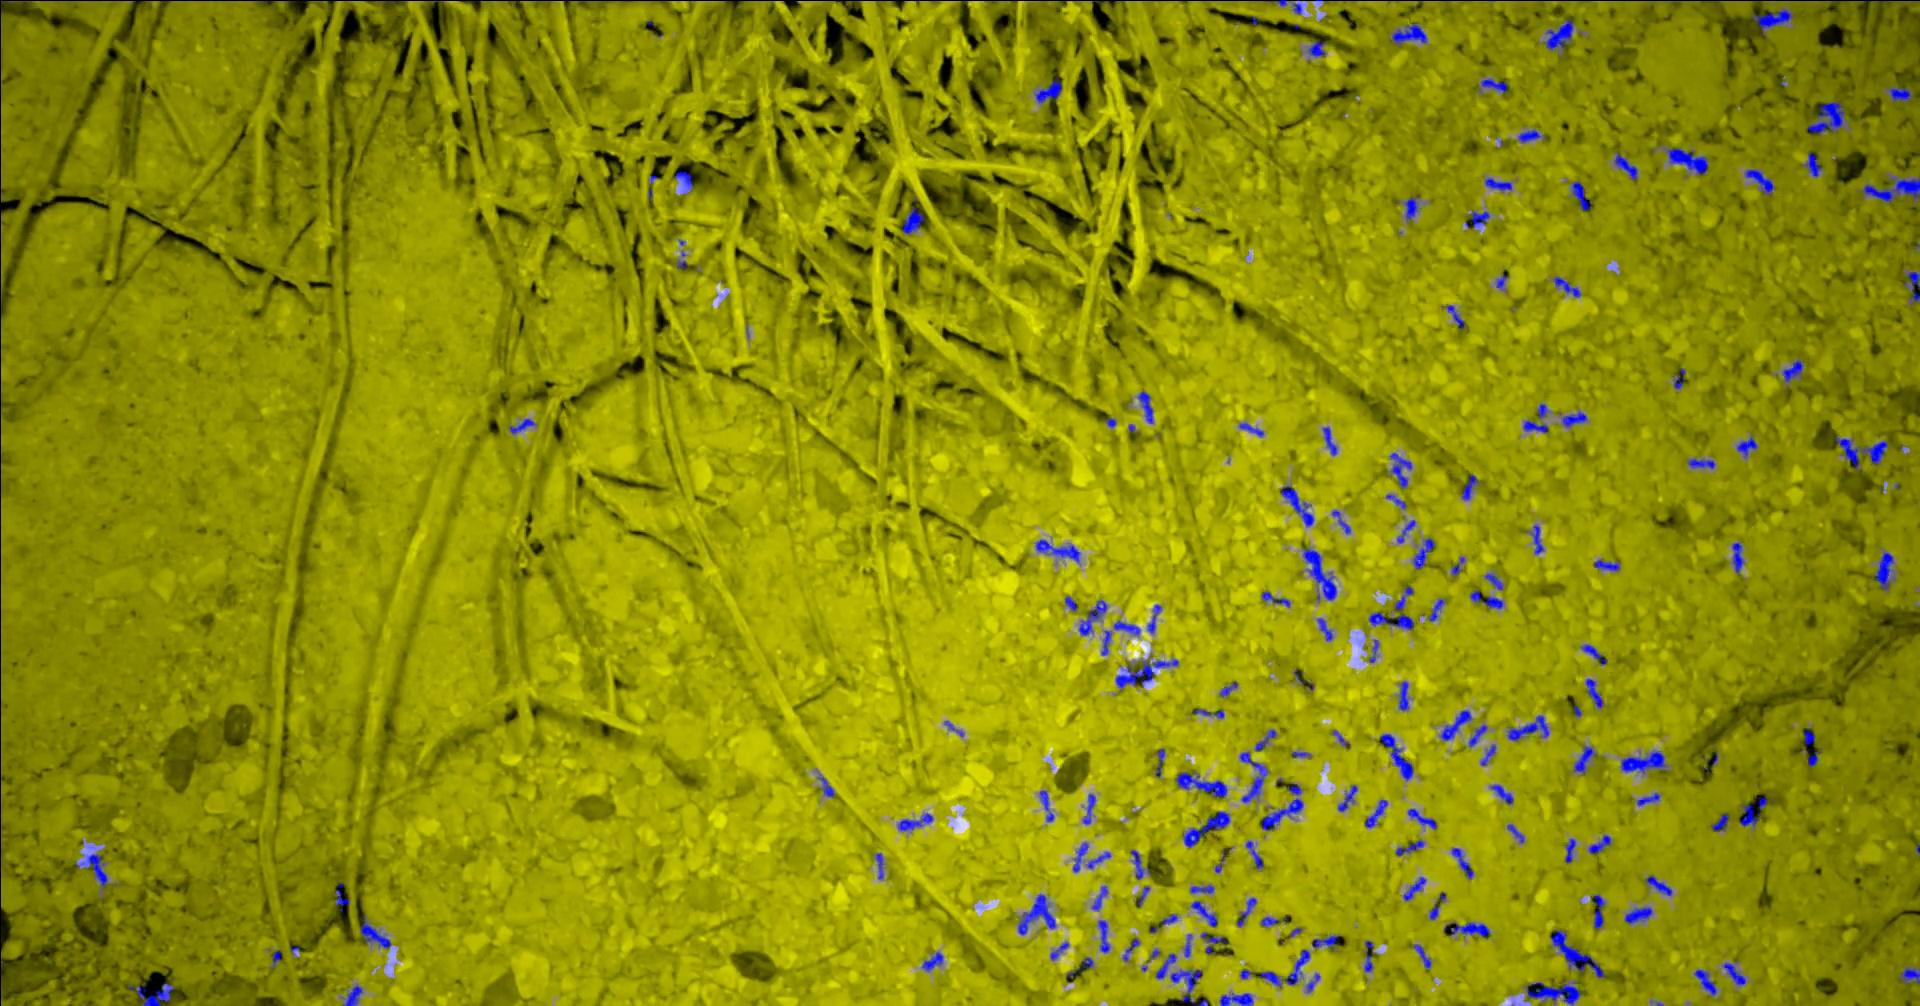ant: (1550, 929, 1604, 977), (1260, 782, 1302, 829), (1258, 949, 1309, 987), (1835, 434, 1887, 470), (1302, 547, 1336, 600), (1115, 659, 1178, 687), (1182, 810, 1229, 847), (1379, 733, 1413, 780), (1017, 893, 1055, 934), (1862, 175, 1919, 202), (1239, 751, 1267, 801), (1280, 485, 1313, 526), (1175, 771, 1225, 796), (1524, 982, 1580, 1005), (1806, 102, 1845, 133), (1170, 968, 1203, 1005), (1751, 8, 1793, 34), (1666, 147, 1708, 174), (1620, 749, 1666, 774), (126, 982, 174, 1005), (74, 854, 107, 887), (1506, 715, 1548, 741), (359, 913, 390, 948), (1035, 539, 1079, 561), (1078, 600, 1106, 635), (1543, 18, 1573, 50), (1440, 710, 1470, 741), (1870, 553, 1895, 589), (1743, 168, 1774, 196), (1390, 22, 1426, 44), (1368, 611, 1413, 629), (1389, 452, 1411, 488), (1034, 77, 1062, 103), (1613, 151, 1637, 180), (1412, 537, 1434, 569), (1190, 901, 1217, 926), (1445, 921, 1490, 936), (1469, 589, 1503, 608), (902, 206, 924, 234), (1364, 799, 1387, 827), (897, 812, 932, 829), (1570, 180, 1591, 210), (1407, 808, 1436, 829), (1451, 847, 1472, 878), (1573, 746, 1595, 774), (1065, 956, 1093, 978), (1130, 850, 1150, 879), (1236, 897, 1256, 926), (1553, 276, 1580, 297), (1402, 876, 1425, 901), (1694, 969, 1716, 995), (1137, 390, 1153, 423), (1337, 784, 1357, 810), (1644, 875, 1671, 895), (1200, 932, 1227, 953), (1244, 840, 1263, 868), (1722, 962, 1745, 984), (1585, 678, 1603, 708), (1445, 304, 1465, 329), (1581, 644, 1606, 664), (1156, 953, 1176, 978), (1412, 942, 1431, 969), (1903, 271, 1919, 304), (1072, 842, 1088, 873), (1624, 906, 1652, 923), (1736, 434, 1757, 457), (1590, 894, 1604, 929), (1782, 359, 1803, 381), (1490, 784, 1512, 804), (1738, 803, 1759, 826), (334, 882, 349, 912), (1803, 152, 1822, 177), (1331, 509, 1350, 533), (1462, 474, 1478, 500), (1396, 520, 1415, 542), (1394, 586, 1413, 608), (1219, 992, 1253, 1005), (1465, 210, 1490, 227), (1261, 591, 1289, 606), (1039, 790, 1053, 821), (1396, 840, 1423, 855), (1310, 935, 1338, 950), (1091, 885, 1107, 911), (1255, 729, 1275, 749), (342, 984, 362, 1005), (1589, 835, 1610, 854), (921, 951, 942, 970), (1322, 426, 1336, 455), (1529, 525, 1543, 554), (508, 418, 535, 433), (1112, 620, 1139, 635), (1468, 724, 1486, 747), (817, 774, 834, 796), (1731, 542, 1743, 574), (1082, 793, 1095, 824), (1147, 605, 1161, 633), (1887, 86, 1912, 102), (1403, 196, 1418, 221), (1429, 598, 1445, 621), (1087, 851, 1110, 868), (1123, 937, 1139, 960), (1481, 77, 1507, 91), (1484, 177, 1511, 191), (1561, 412, 1587, 426), (1801, 727, 1815, 753), (674, 170, 693, 189), (1097, 920, 1109, 951), (1898, 967, 1919, 984), (1316, 619, 1332, 640), (1517, 130, 1545, 142), (1238, 422, 1263, 436), (1506, 823, 1524, 842), (1363, 940, 1373, 972), (1710, 813, 1728, 831), (1050, 941, 1068, 959), (1192, 708, 1223, 718), (1592, 559, 1619, 570), (1398, 681, 1408, 710), (1307, 39, 1324, 56), (1484, 573, 1502, 589), (1523, 420, 1548, 432), (1636, 793, 1658, 805), (1385, 494, 1406, 508), (1481, 744, 1495, 765), (1219, 681, 1237, 696), (1260, 915, 1286, 925), (1305, 973, 1319, 992), (1156, 748, 1164, 777), (1672, 367, 1685, 387), (1101, 630, 1111, 655), (1564, 838, 1575, 862), (1451, 556, 1464, 575), (1688, 459, 1714, 467), (1368, 639, 1378, 662), (1189, 884, 1213, 893), (1064, 596, 1077, 611), (875, 852, 883, 878), (1807, 749, 1818, 766), (1161, 913, 1177, 925), (270, 949, 281, 967), (1537, 403, 1548, 418), (1183, 934, 1191, 956), (1429, 901, 1437, 920), (1291, 0, 1302, 14), (1829, 0, 1919, 1)
